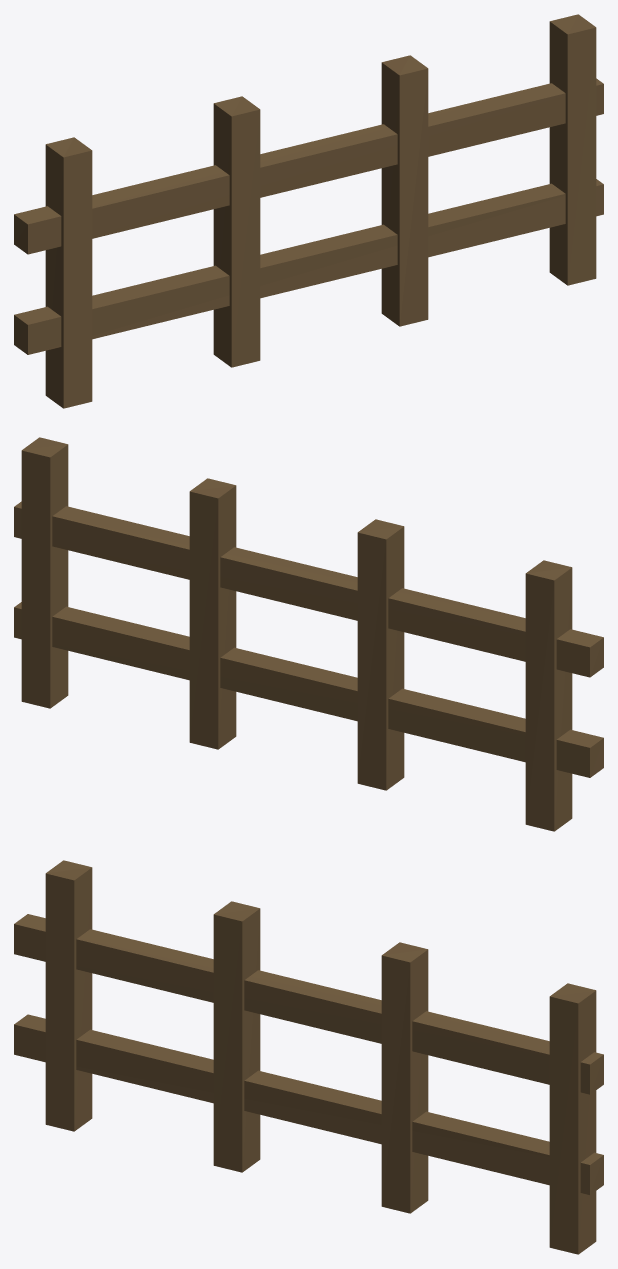
File: wooden_fence-far.glb
3 renders of one model, top to bottom at view 1: azimuth 30°, elevation 25°; view 2: azimuth 150°, elevation 25°; view 3: azimuth 330°, elevation 25°, orthographic.
Parts seen in each view (by area): view 1: world-scenery/wooden_fence-far; view 2: world-scenery/wooden_fence-far; view 3: world-scenery/wooden_fence-far.
Part boxes in pixels (x1,y1,x2,y2): world-scenery/wooden_fence-far: (14,14,603,408); world-scenery/wooden_fence-far: (14,437,603,831); world-scenery/wooden_fence-far: (14,860,603,1254).
Size of the model in its own units: 2.4 by 1 by 0.13.
